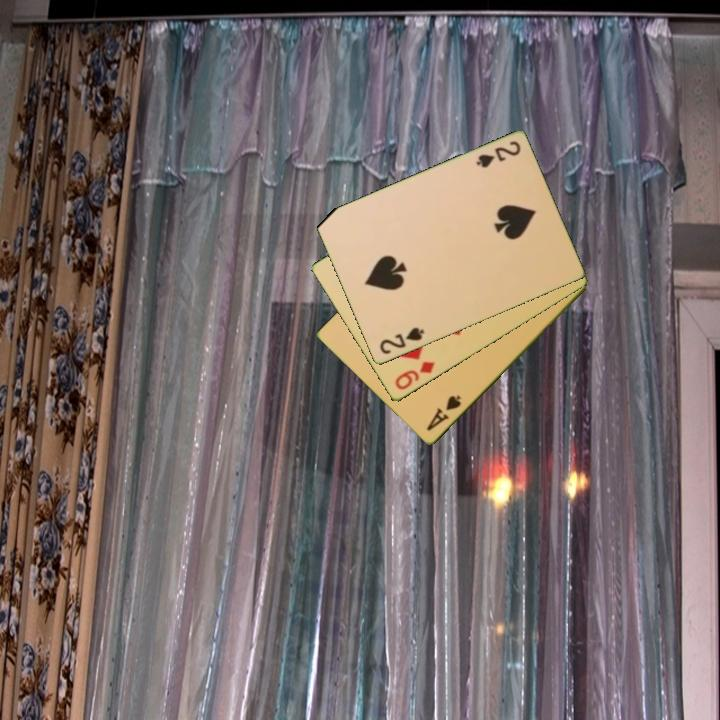2s: (376, 324, 427, 358), (473, 138, 523, 171)
9d: (391, 358, 438, 393)
As: (423, 392, 464, 434)
